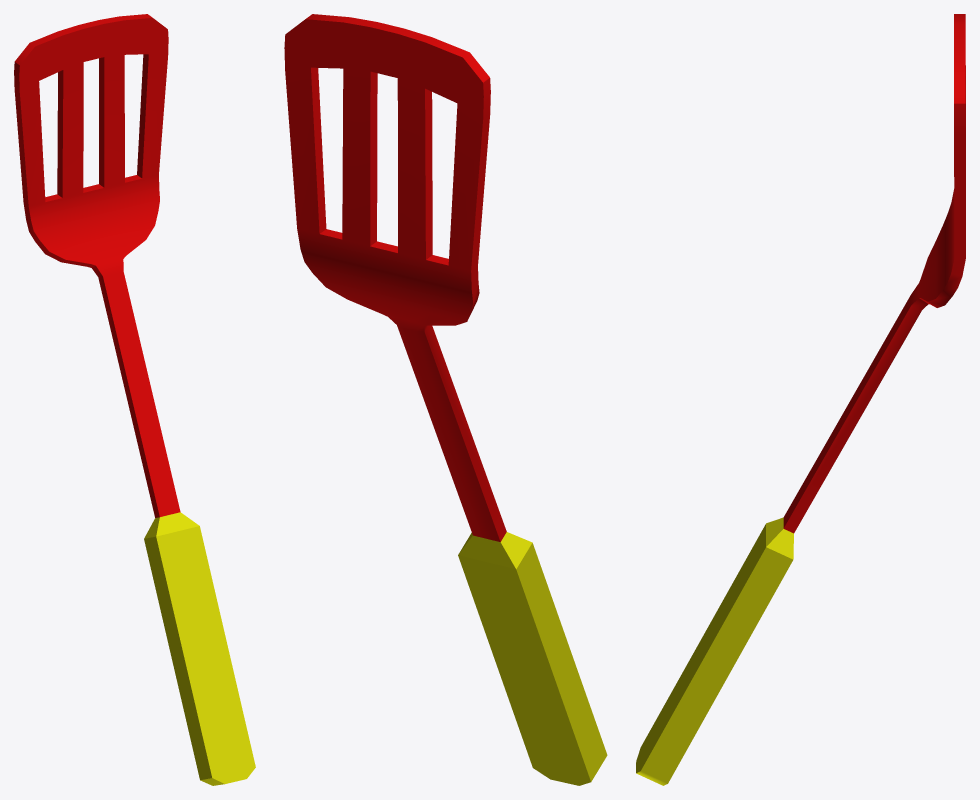
The model's file is Abbie - Spatula.fbx.
3 views of the same model, side by side, from view 1: azimuth 30°, elevation 25°; view 2: azimuth 150°, elevation 25°; view 3: azimuth 270°, elevation 25° (orthographic). The views are drawn at different scales.
Parts seen in each view (by area): view 1: pCube1; view 2: pCube1; view 3: pCube1.
Part boxes in pixels (left/top/right/bottom): pCube1: left=14, top=14, right=255, bottom=785; pCube1: left=284, top=14, right=607, bottom=785; pCube1: left=636, top=14, right=965, bottom=785.
Bounding box in the file's own units: 8.17 × 34.66 × 13.99.
